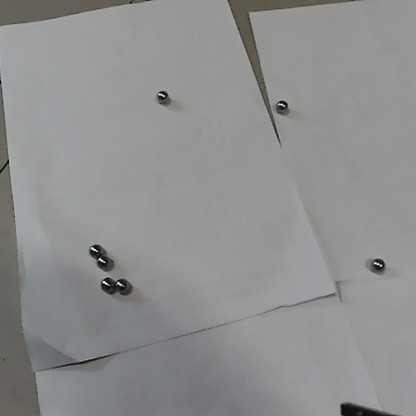ironball: (114, 275, 131, 294), (369, 255, 385, 273), (99, 276, 117, 292), (274, 96, 289, 113), (88, 241, 103, 257), (96, 254, 110, 271), (156, 90, 169, 103)
